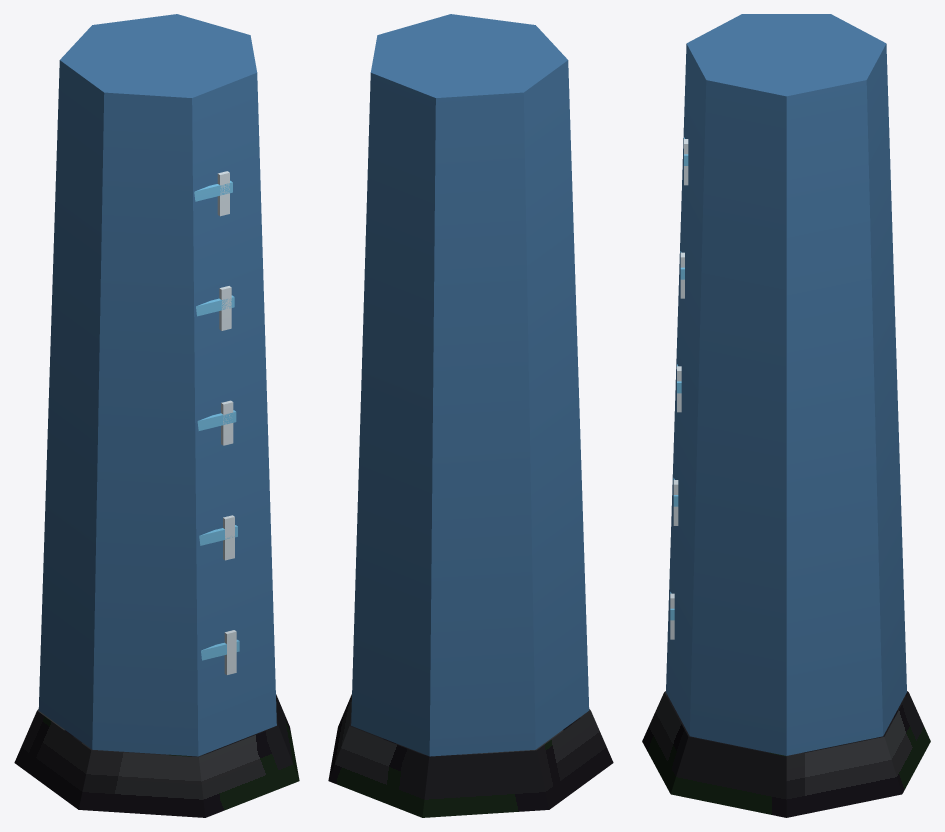
File: frost_rune_pillar.glb
3 renders of one model, left to right at view 1: azimuth 30°, elevation 25°; view 2: azimuth 150°, elevation 25°; view 3: azimuth 270°, elevation 25°, orthographic.
Visible parts, largest first — view 1: frost_rune_pillar; view 2: frost_rune_pillar; view 3: frost_rune_pillar.
Part boxes in pixels (x1,y1,x2,y2): frost_rune_pillar: [14, 14, 299, 817]; frost_rune_pillar: [328, 14, 613, 817]; frost_rune_pillar: [642, 14, 930, 817].
Size of the model in its own units: 1.24 by 3.4 by 1.27.
3 materials, 1 textured.
